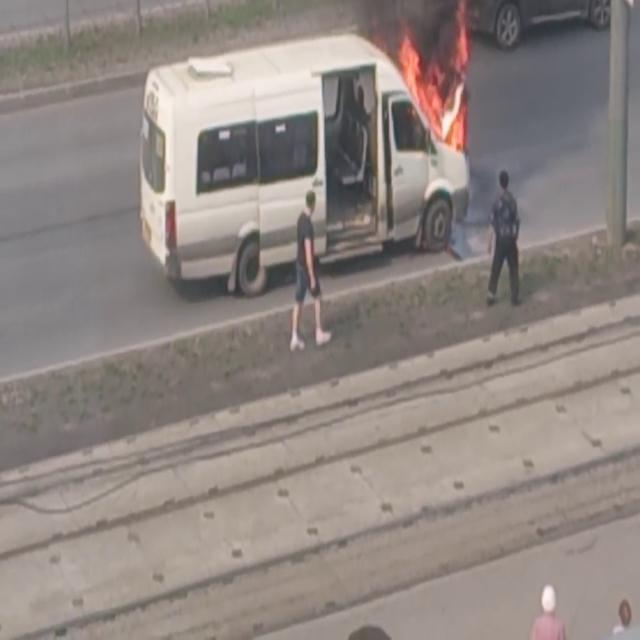Fire: (398, 16, 474, 153)
